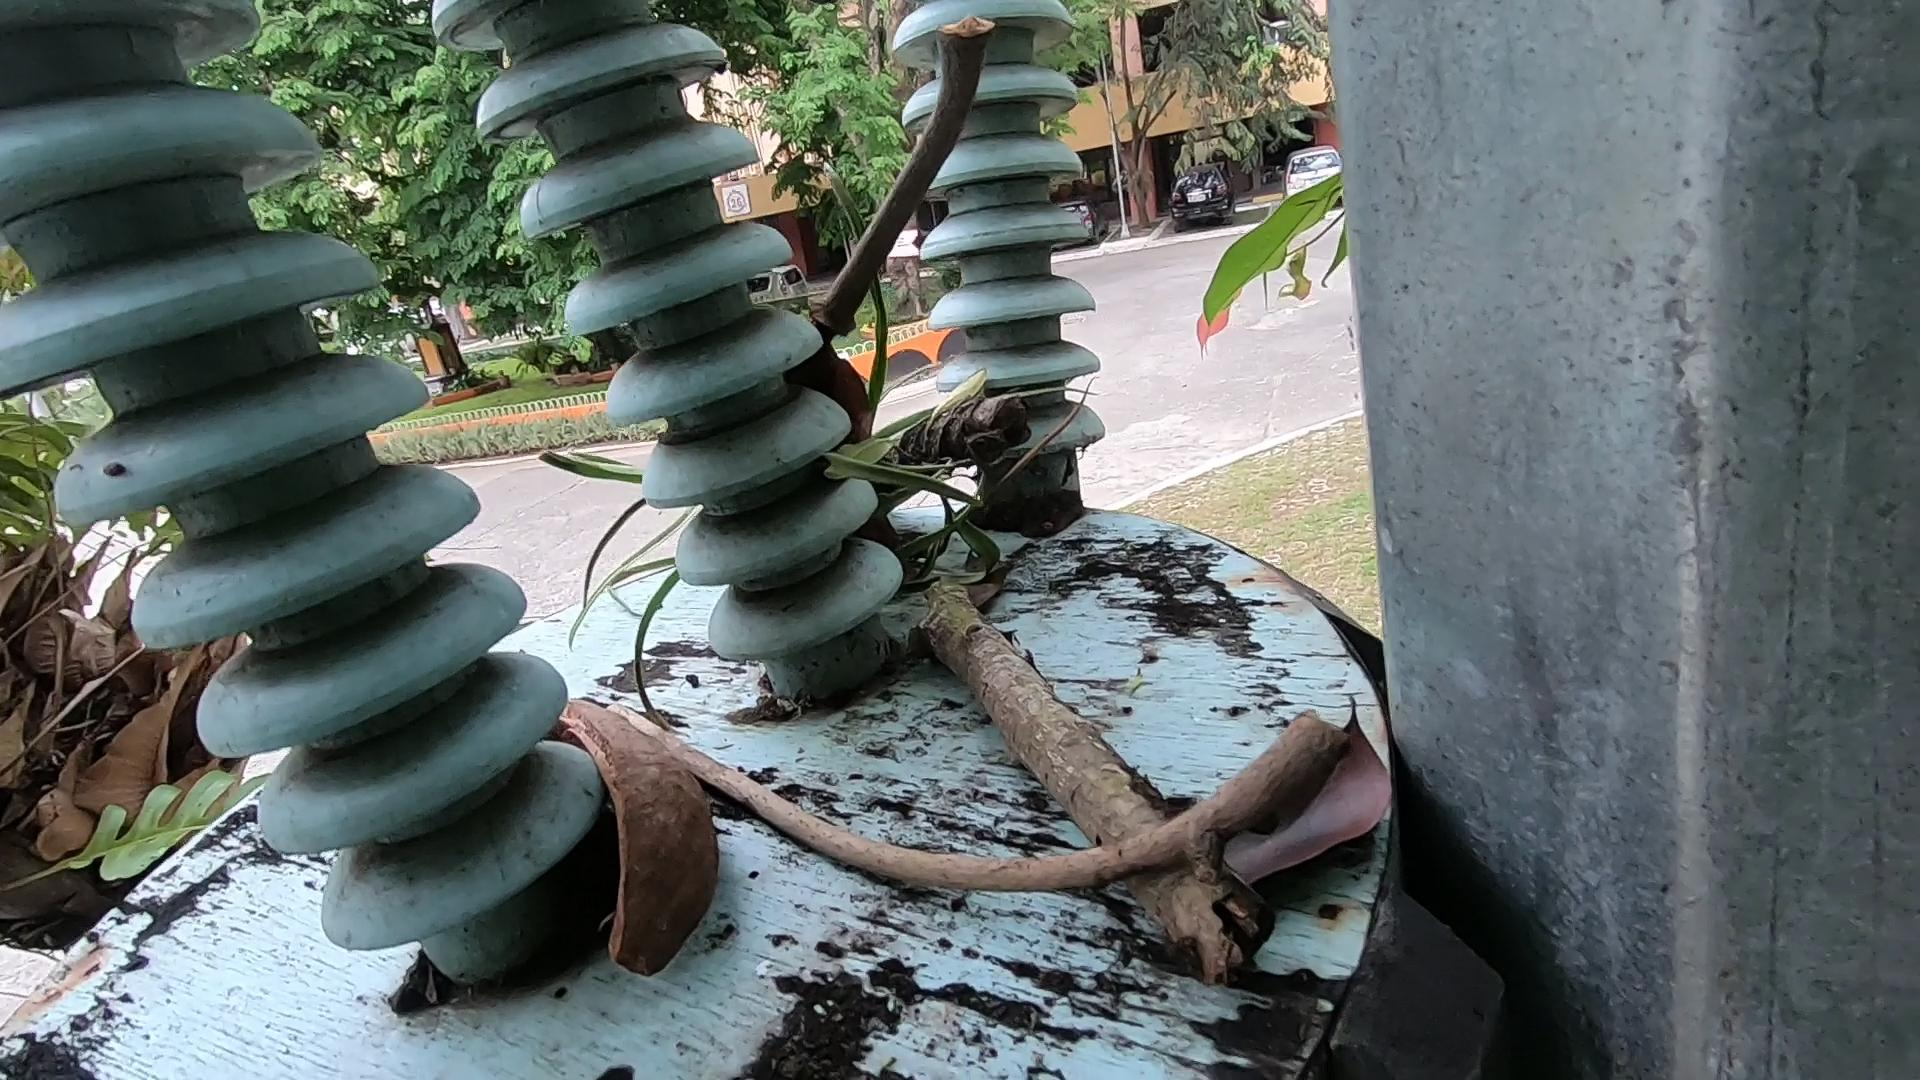branch with leaves: (723, 405, 1313, 1051)
leaf: (1228, 632, 1389, 891)
mahogany fruit: (504, 673, 793, 1040)
tree branch: (607, 723, 1371, 894), (849, 1, 1033, 332)
